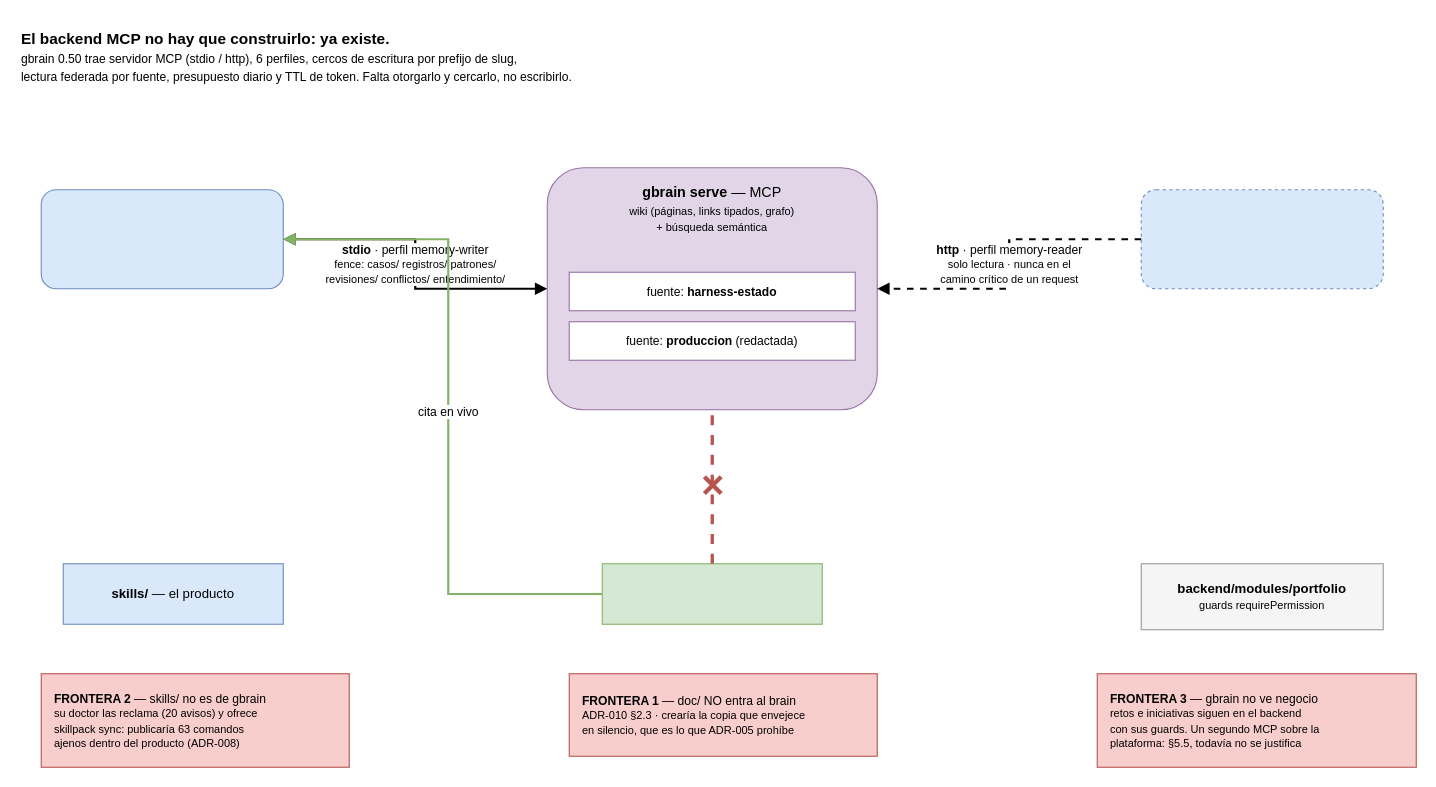
This 1436x787 diagram has some shape labels left out. Each missing label, with the centre of its shape:
"ai-service cliente 2 — fase 3, condicional" belongs at [1261,239].
"Claude Code — el plugin 10 skills de skills/ (ADR-008)" belongs at [161,239].
"doc/ — los 9 contratos" belongs at [711,593].
